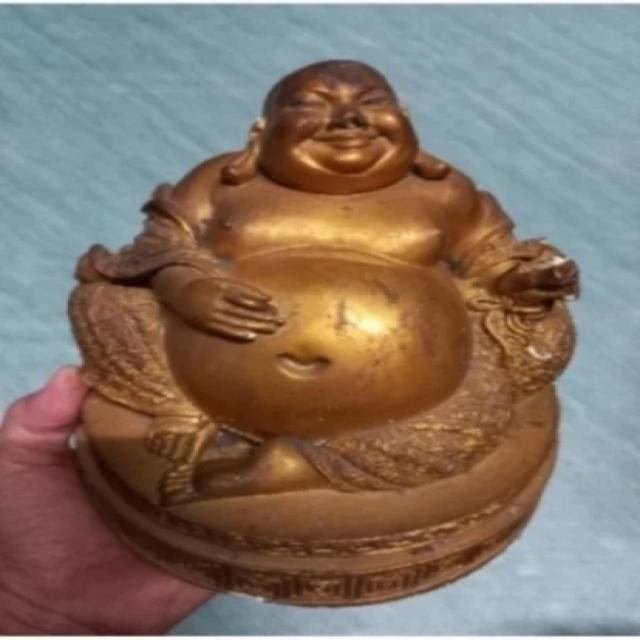Smiling Buddha: (134, 54, 482, 486)
